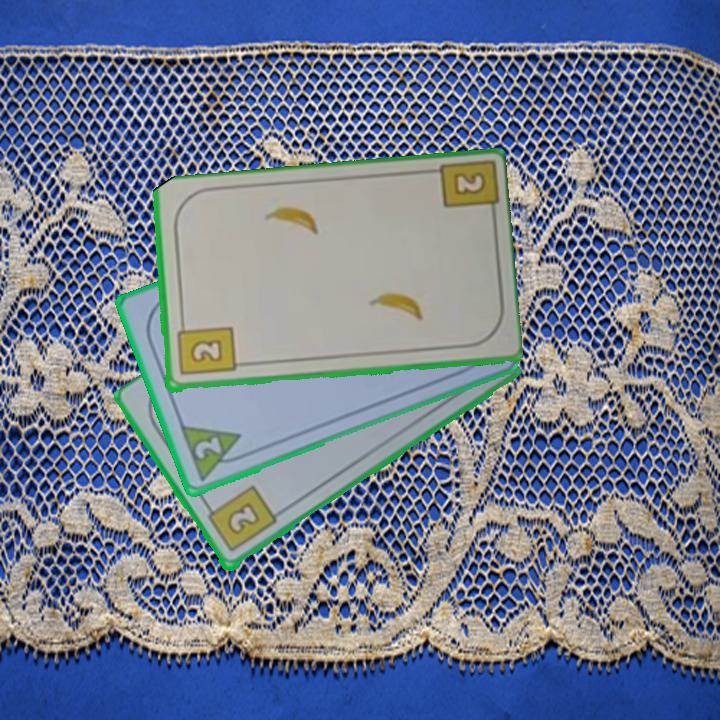2b: (201, 482, 280, 556), (173, 318, 237, 379), (449, 168, 489, 199)
2p: (176, 422, 250, 485)
